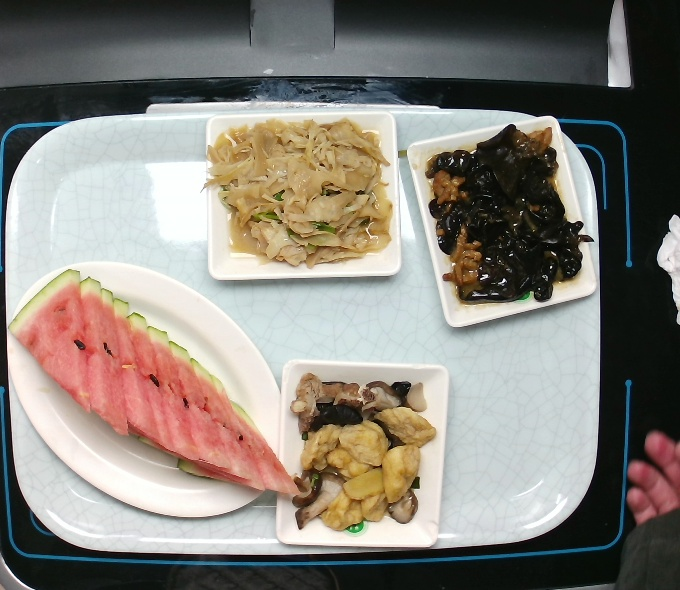wcq-LuSun: (208, 122, 396, 271)
wcq-MuErChaoRou: (417, 123, 596, 311)
wcq-XiGua: (2, 264, 303, 501)
wcq-YouPaoPaiGu: (288, 373, 425, 533)
